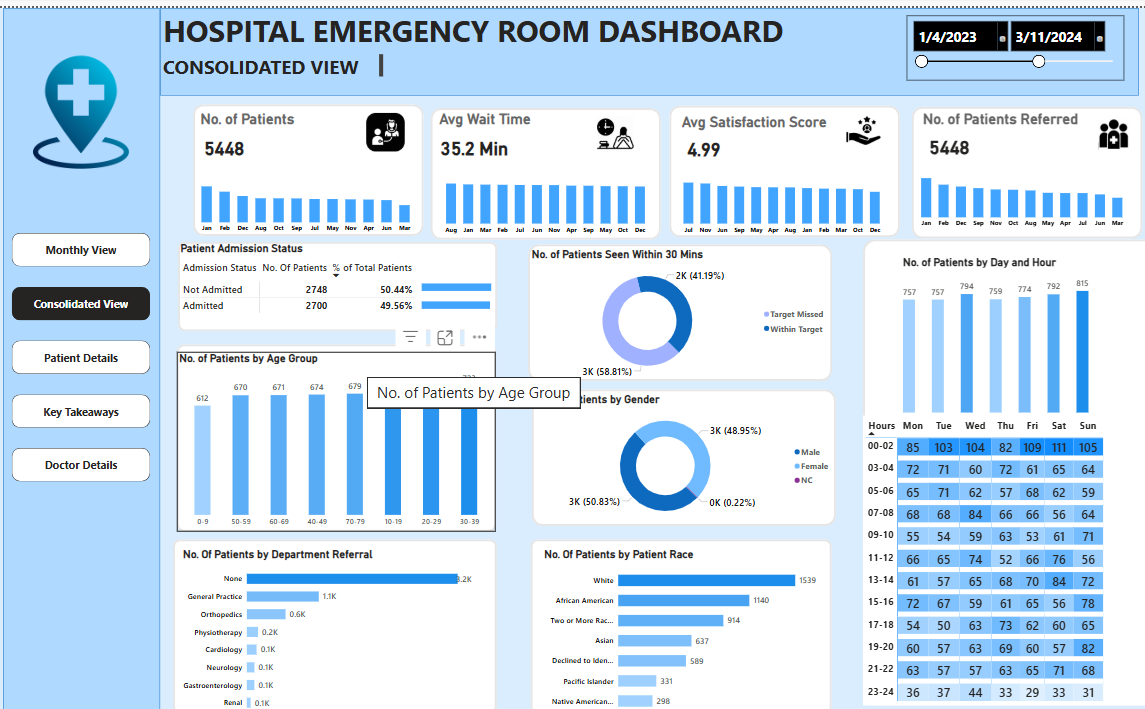

What the dashboard file says about the page in this screenshot:
{"tool":"powerbi","page":{"name":"Consolidated View","canvas":[2300,1400],"ordinal":1},"visuals":[{"type":"shape","box":[9.8,0,310,1400],"z":0},{"type":"shape","box":[319.5,0,1929.3,173.2],"z":1000},{"type":"textbox","box":[320,0,1267.5,102.5],"z":2000},{"type":"shape","box":[383.5,190,455,260],"z":3000},{"type":"textbox","box":[320.5,86.3,443.8,56.7],"z":4000},{"type":"card","fields":{"Values":["Hospital ER_Data.No. Of Patients"]},"box":[394.5,240,102.7,71.8],"z":5000},{"type":"slicer","fields":{"Values":["Date Table.Date"]},"box":[1792.6,14.8,429,128.2],"z":6000},{"type":"textbox","box":[394.5,196.4,277.3,57.3],"z":7000},{"type":"columnChart","fields":{"Y":["Hospital ER_Data.No. Of Patients"],"Category":["Date Table.Month Name"]},"box":[383.3,323.3,450,130],"z":8000},{"type":"shape","box":[852.7,196.4,454.5,260],"z":9000},{"type":"card","fields":{"Values":["Hospital ER_Data.Avg Wait Time"]},"box":[856.4,247.3,168.2,55.5],"z":10000},{"type":"textbox","box":[864.5,196.4,277.3,57.3],"z":11000},{"type":"columnChart","fields":{"Category":["Date Table.Month Name"],"Y":["Avg(Hospital ER_Data.Patient Waittime)"]},"box":[865,325,430,130],"z":12000},{"type":"shape","box":[1324.8,192,455,260],"z":13000},{"type":"card","fields":{"Values":["Hospital ER_Data.Satisfaction Score"]},"box":[1333.6,250.9,117.3,49.1],"z":14000},{"type":"textbox","box":[1345,201.7,340,50],"z":15000},{"type":"shape","box":[356.1,460.2,630,177],"z":16000},{"type":"columnChart","fields":{"Category":["Date Table.Month Name"],"Y":["Hospital ER_Data.Satisfaction Score"]},"box":[1333.6,326.4,424.5,130],"z":17000},{"type":"shape","box":[1801.5,196,455,260],"z":18000},{"type":"card","fields":{"Values":["Hospital ER_Data.No. Of Patients"]},"box":[1802.1,237.5,147.9,72.9],"z":19000},{"type":"textbox","box":[1819.7,197.3,372.3,56.7],"z":20000},{"type":"columnChart","fields":{"Category":["Date Table.Month Name"],"Y":["Hospital ER_Data.No. Of Patients Referred"]},"box":[1801.5,313.5,435,130],"z":21000},{"type":"pivotTable","title":"Patient Admission Status","fields":{"Rows":["Hospital ER_Data.Admission Status"],"Values":["Hospital ER_Data.No. Of Patients1","Hospital ER_Data.No. Of Patients"]},"box":[356.1,460.2,518.8,177.1],"z":22000},{"type":"shape","box":[344.4,1047.2,638.9,344.4],"z":23000},{"type":"barChart","fields":{"Category":["Hospital ER_Data.Admission Status"],"Y":["Hospital ER_Data.No. Of Patients"]},"box":[830.8,513.9,159.7,106.5],"z":24000},{"type":"shape","box":[353.3,664.1,630.6,370],"z":25000},{"type":"clusteredColumnChart","fields":{"Category":["Hospital ER_Data.\"Age Group"],"Y":["Hospital ER_Data.No. Of Patients"]},"box":[352.2,677.1,630,356],"z":26000},{"type":"clusteredBarChart","fields":{"Category":["Hospital ER_Data.Department Referral"],"Y":["Hospital ER_Data.No. Of Patients"]},"box":[360,1065.2,579.4,335.3],"z":27000},{"type":"shape","box":[1044.8,465.9,600,270],"z":28000},{"type":"donutChart","title":"No. of Patients Seen Within 30 Mins","fields":{"Category":["Hospital ER_Data.Waitime Status"],"Y":["Hospital ER_Data.No. Of Patients"]},"box":[1048.9,473.9,594.2,263.8],"z":29000},{"type":"shape","box":[1052.8,752.1,600,270],"z":30000},{"type":"donutChart","title":"No. of Patients by Gender","fields":{"Y":["Hospital ER_Data.No. Of Patients"],"Category":["Hospital ER_Data.Patient Gender"]},"box":[1056.9,760.1,594.2,263.8],"z":31000},{"type":"shape","box":[1706.3,456.2,594.2,919.7],"z":32000},{"type":"shape","box":[1050.4,1047.9,594.2,345.2],"z":33000},{"type":"clusteredBarChart","fields":{"Y":["Hospital ER_Data.No. Of Patients"],"Category":["Hospital ER_Data.Patient Race"]},"box":[1072.6,1065.2,552.3,335.3],"z":34000},{"type":"pivotTable","fields":{"Rows":["Hospital ER_Data.Waitime Interval"],"Columns":["Date Table.Day Name"],"Values":["Hospital ER_Data.No. Of Patients"]},"box":[1706,804,594,572],"z":35000},{"type":"columnChart","title":"No. of Patients by Day and Hour","fields":{"Category":["Date Table.Day Name"],"Y":["Hospital ER_Data.No. Of Patients"]},"box":[1780,488,378,316],"z":36000},{"type":"image","box":[718,202,94,86],"z":37000},{"type":"image","box":[1150,208,138,82],"z":38000},{"type":"image","box":[2166,212,72,74],"z":39000},{"type":"image","box":[1652,198,110,88],"z":40000},{"type":"image","box":[46,88,234,234],"z":41000},{"type":"pageNavigator","box":[27.1,443.8,273.7,493.1],"z":42000}]}

Visuals, with their boxes in screenshot pixels (x1, y1, x2, y2), scaled from the page's 2300x1400 canvas onto the 1145x709 screenshot:
shape: left=5, top=0, right=159, bottom=708
shape: left=159, top=0, right=1120, bottom=88
textbox: left=159, top=0, right=790, bottom=52
shape: left=191, top=96, right=417, bottom=228
textbox: left=160, top=44, right=380, bottom=72
card - Hospital ER_Data.No. Of Patients: left=196, top=122, right=248, bottom=158
slicer - Date Table.Date: left=892, top=7, right=1106, bottom=72
textbox: left=196, top=99, right=334, bottom=128
columnChart - Hospital ER_Data.No. Of Patients x Date Table.Month Name: left=191, top=164, right=415, bottom=230
shape: left=424, top=99, right=651, bottom=231
card - Hospital ER_Data.Avg Wait Time: left=426, top=125, right=510, bottom=153
textbox: left=430, top=99, right=568, bottom=128
columnChart - Date Table.Month Name x Avg(Hospital ER_Data.Patient Waittime): left=431, top=165, right=645, bottom=230
shape: left=660, top=97, right=886, bottom=229
card - Hospital ER_Data.Satisfaction Score: left=664, top=127, right=722, bottom=152
textbox: left=670, top=102, right=839, bottom=127
shape: left=177, top=233, right=491, bottom=323
columnChart - Date Table.Month Name x Hospital ER_Data.Satisfaction Score: left=664, top=165, right=875, bottom=231
shape: left=897, top=99, right=1123, bottom=231
card - Hospital ER_Data.No. Of Patients: left=897, top=120, right=971, bottom=157
textbox: left=906, top=100, right=1091, bottom=129
columnChart - Date Table.Month Name x Hospital ER_Data.No. Of Patients Referred: left=897, top=159, right=1113, bottom=225
"Patient Admission Status" pivotTable: left=177, top=233, right=436, bottom=323
shape: left=171, top=530, right=490, bottom=705
barChart - Hospital ER_Data.Admission Status x Hospital ER_Data.No. Of Patients: left=414, top=260, right=493, bottom=314
shape: left=176, top=336, right=490, bottom=524
clusteredColumnChart - Hospital ER_Data."Age Group x Hospital ER_Data.No. Of Patients: left=175, top=343, right=489, bottom=523
clusteredBarChart - Hospital ER_Data.Department Referral x Hospital ER_Data.No. Of Patients: left=179, top=539, right=468, bottom=708
shape: left=520, top=236, right=819, bottom=373
"No. of Patients Seen Within 30 Mins" donutChart: left=522, top=240, right=818, bottom=374
shape: left=524, top=381, right=823, bottom=518
"No. of Patients by Gender" donutChart: left=526, top=385, right=822, bottom=519
shape: left=849, top=231, right=1144, bottom=697
shape: left=523, top=531, right=819, bottom=706
clusteredBarChart - Hospital ER_Data.No. Of Patients x Hospital ER_Data.Patient Race: left=534, top=539, right=809, bottom=708
pivotTable - Hospital ER_Data.Waitime Interval x Date Table.Day Name: left=849, top=407, right=1144, bottom=697
"No. of Patients by Day and Hour" columnChart: left=886, top=247, right=1074, bottom=407
image: left=357, top=102, right=404, bottom=146
image: left=572, top=105, right=641, bottom=147
image: left=1078, top=107, right=1114, bottom=145
image: left=822, top=100, right=877, bottom=145
image: left=23, top=45, right=139, bottom=163
pageNavigator: left=13, top=225, right=150, bottom=474
